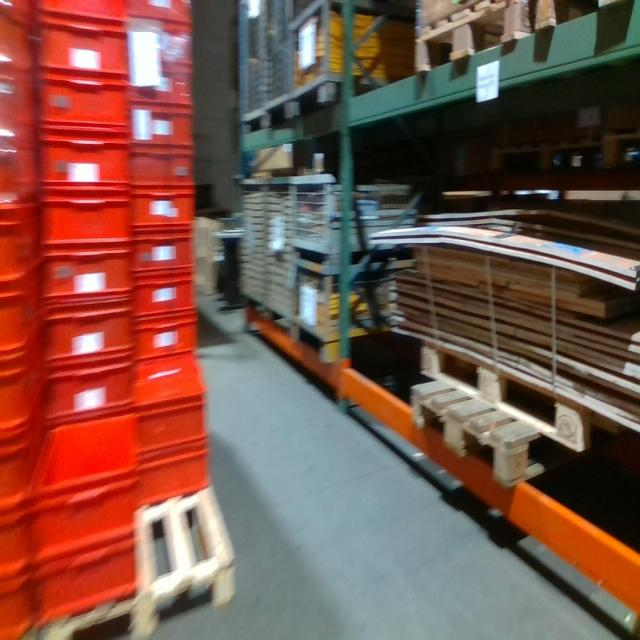pallet: (16, 471, 239, 639), (418, 337, 606, 454), (406, 369, 555, 486), (413, 4, 533, 74), (534, 3, 631, 30)
small_load_carrier: (28, 408, 140, 569), (32, 537, 134, 630), (132, 348, 212, 454), (41, 357, 132, 427), (36, 248, 133, 309), (38, 73, 133, 134), (138, 441, 212, 518), (39, 191, 133, 249), (39, 134, 132, 191), (38, 19, 127, 73), (38, 309, 132, 357), (129, 310, 200, 367), (129, 60, 192, 114), (0, 274, 39, 361), (3, 336, 33, 443), (133, 272, 195, 323), (2, 204, 43, 280), (130, 189, 195, 235), (2, 2, 41, 76), (129, 24, 191, 69), (2, 131, 39, 201), (129, 236, 195, 274), (2, 70, 41, 134), (131, 150, 195, 189), (131, 114, 192, 150), (1, 507, 30, 582), (0, 440, 31, 505), (39, 2, 129, 24), (3, 582, 34, 638), (129, 0, 191, 24)
stillage: (291, 251, 424, 367), (289, 3, 415, 123), (286, 169, 426, 259), (260, 3, 318, 133), (267, 176, 296, 337), (233, 2, 266, 135), (236, 174, 266, 320)
